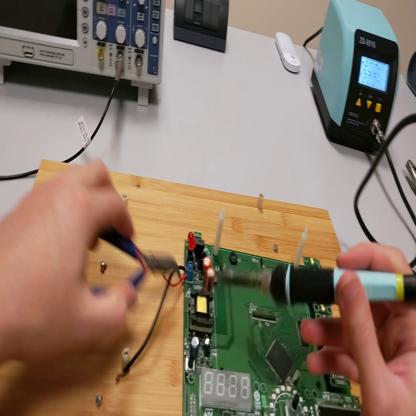hand: (2, 160, 139, 366), (305, 240, 416, 415)
low voltage board: (117, 209, 361, 416)
oscilloscope: (1, 2, 168, 109)
pliers: (94, 229, 182, 299), (407, 160, 416, 189)
socket: (406, 54, 416, 99)
welder probe tip: (218, 257, 414, 308)
welder station: (310, 4, 401, 159)
working area: (3, 161, 348, 412)
